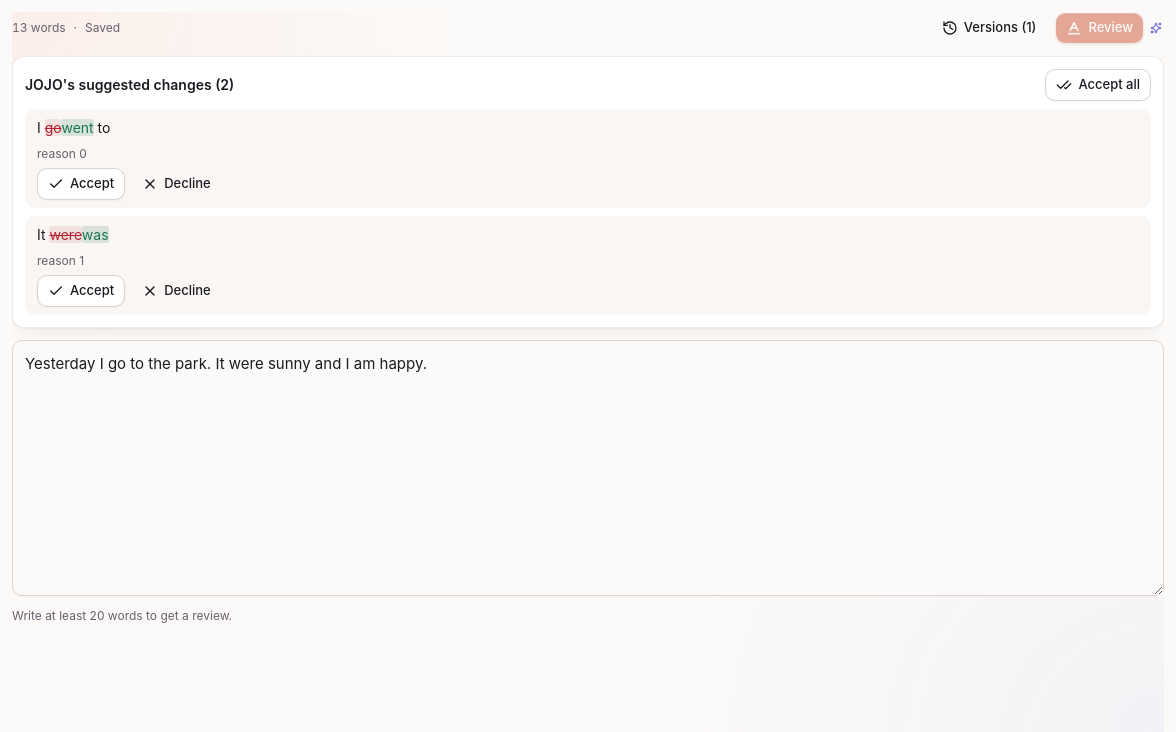
it: WritingView › accepts every change at once
Click the button with test id "edit-accept-all" at (1098, 85), box [1045, 69, 1151, 101]
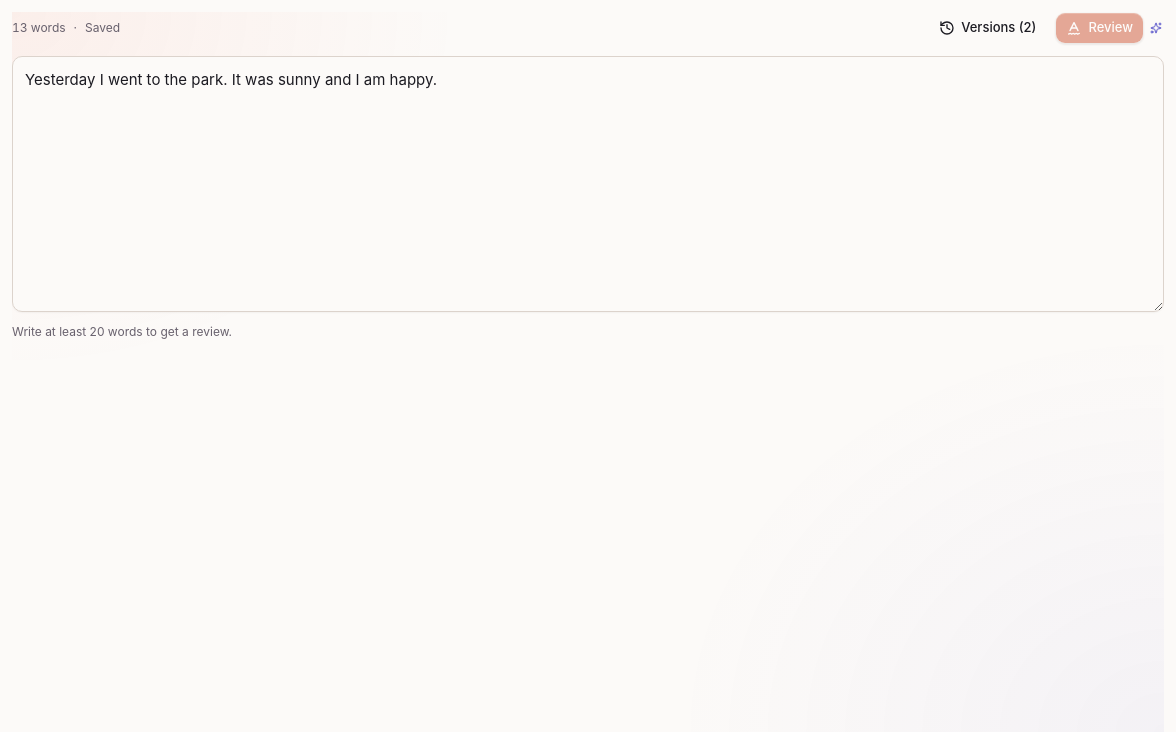
Check: the text box with test id "writing-editor" holds "Yesterday I went to the park. It was sunny and I am happy.", box [12, 56, 1164, 312]
